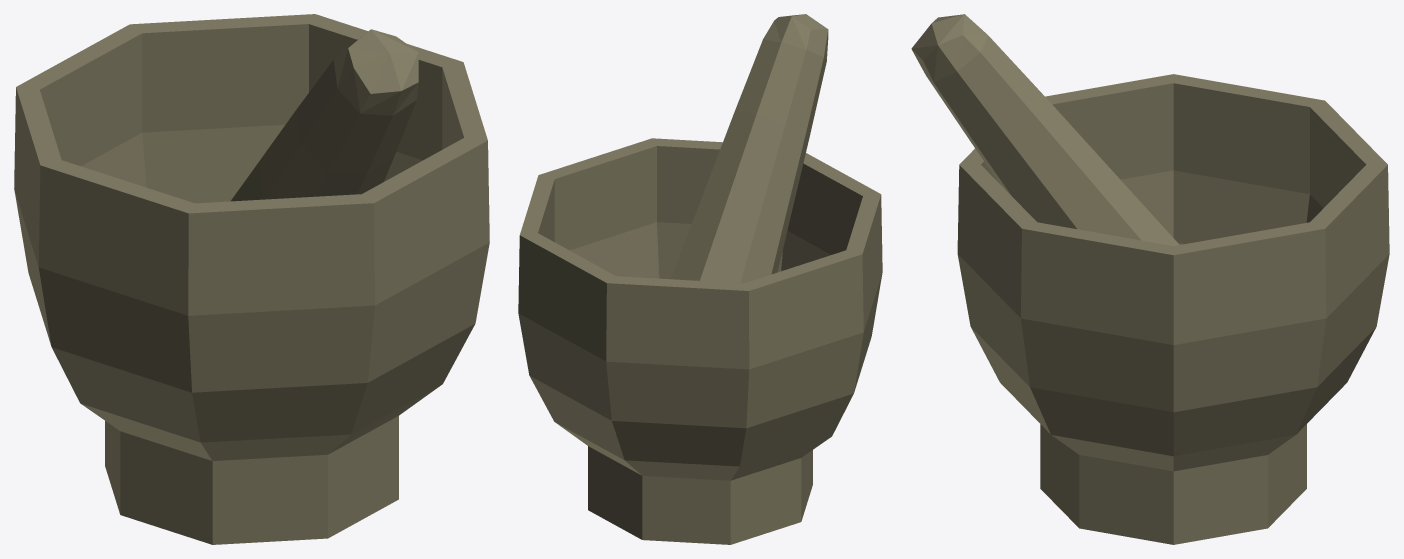
The model's file is mortar_and_pestle.glb.
The picture shows the model from 3 angles, left to right: view 1: azimuth 30°, elevation 25°; view 2: azimuth 150°, elevation 25°; view 3: azimuth 270°, elevation 25°; orthographic projection. The views are drawn at different scales.
Parts seen in each view (by area): view 1: mortar_and_pestle; view 2: mortar_and_pestle; view 3: mortar_and_pestle.
Part boxes in pixels (<box>): mortar_and_pestle: <box>14,14,489,544</box>; mortar_and_pestle: <box>518,14,882,544</box>; mortar_and_pestle: <box>911,14,1389,544</box>.
Bounding box in the file's own units: 0.316 × 0.383 × 0.3499.
